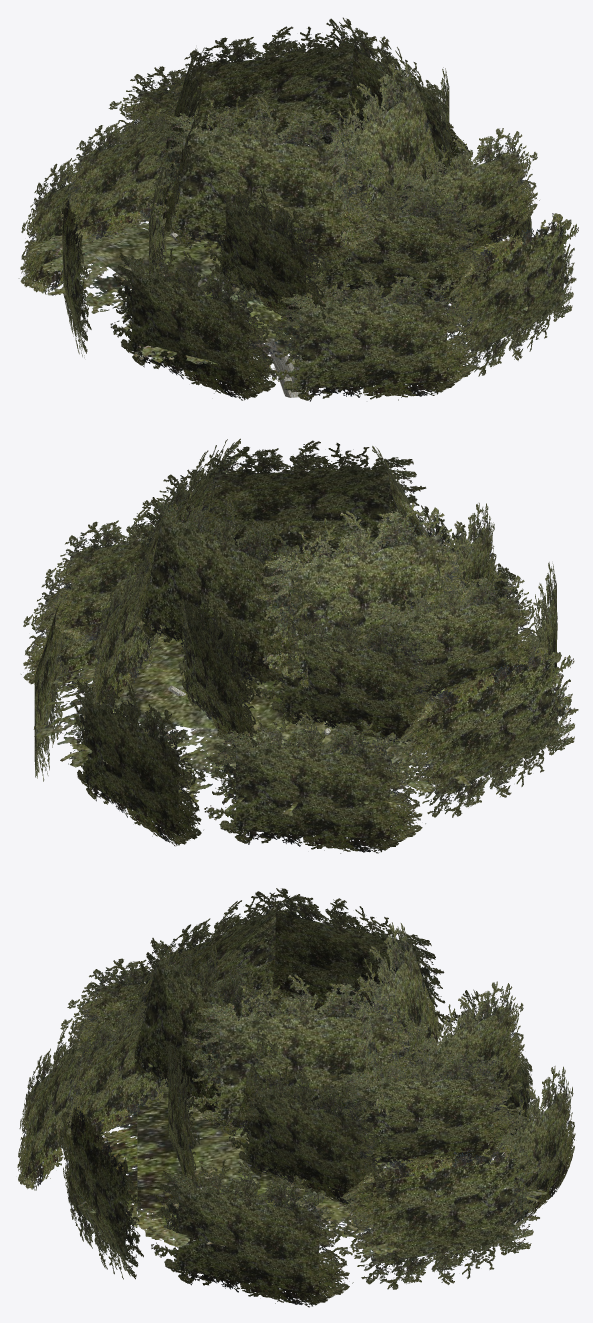
Rendered from big_oak_5.dae.
3 views of the same model, one above another, from view 1: azimuth 30°, elevation 25°; view 2: azimuth 150°, elevation 25°; view 3: azimuth 270°, elevation 25° (orthographic). The views are drawn at different scales.
Parts seen in each view (by area): view 1: center (×17), top (×15), rightside (×12), leftside (×8), Bottom (×9); view 2: center (×18), top (×17), rightside (×11), Bottom (×6), leftside (×7); view 3: center (×18), top (×16), rightside (×10), Bottom (×9), leftside (×6).
Boxes of the visible parts, x1=… form: center (×17): x1=36, y1=40, x2=563, y2=389; top (×15): x1=25, y1=17, x2=572, y2=376; rightside (×12): x1=18, y1=68, x2=539, y2=392; leftside (×8): x1=42, y1=98, x2=578, y2=389; Bottom (×9): x1=29, y1=196, x2=570, y2=401; center (×18): x1=34, y1=461, x2=559, y2=839; top (×17): x1=33, y1=438, x2=574, y2=817; rightside (×11): x1=21, y1=533, x2=543, y2=839; Bottom (×6): x1=78, y1=614, x2=560, y2=853; leftside (×7): x1=70, y1=470, x2=578, y2=830; center (×18): x1=26, y1=910, x2=566, y2=1294; top (×16): x1=26, y1=888, x2=568, y2=1289; rightside (×10): x1=67, y1=986, x2=575, y2=1296; Bottom (×9): x1=22, y1=1054, x2=527, y2=1307; leftside (×6): x1=125, y1=946, x2=542, y2=1269.
Size of the model in its own units: 446 by 446 by 303.
6 materials, 6 textured.
